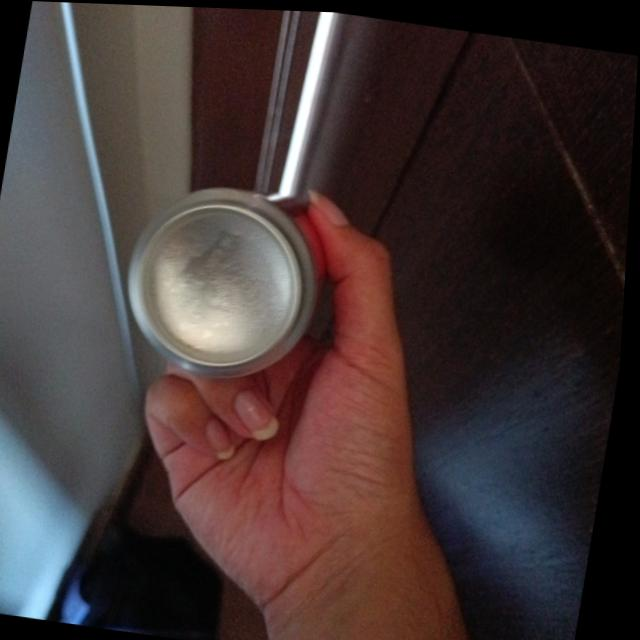coke: (107, 162, 355, 389)
